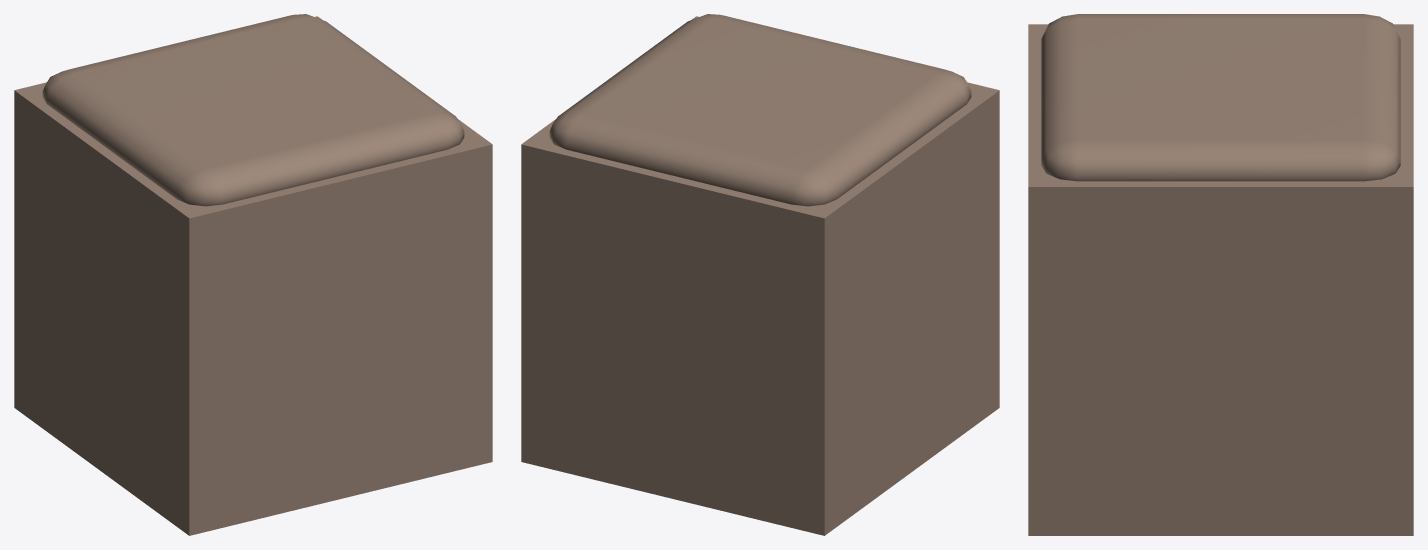
The model's file is floor_pad.fbx.
3 renders of one model, left to right at view 1: azimuth 30°, elevation 25°; view 2: azimuth 150°, elevation 25°; view 3: azimuth 270°, elevation 25°, orthographic. The views are drawn at different scales.
Visible parts, largest first — view 1: floor_with_pad; view 2: floor_with_pad; view 3: floor_with_pad.
Part boxes in pixels (bbox=[...]): floor_with_pad: bbox=[14, 14, 492, 535]; floor_with_pad: bbox=[521, 14, 999, 535]; floor_with_pad: bbox=[1028, 14, 1413, 535].
Size of the model in its own units: 1 by 1.07 by 1.
